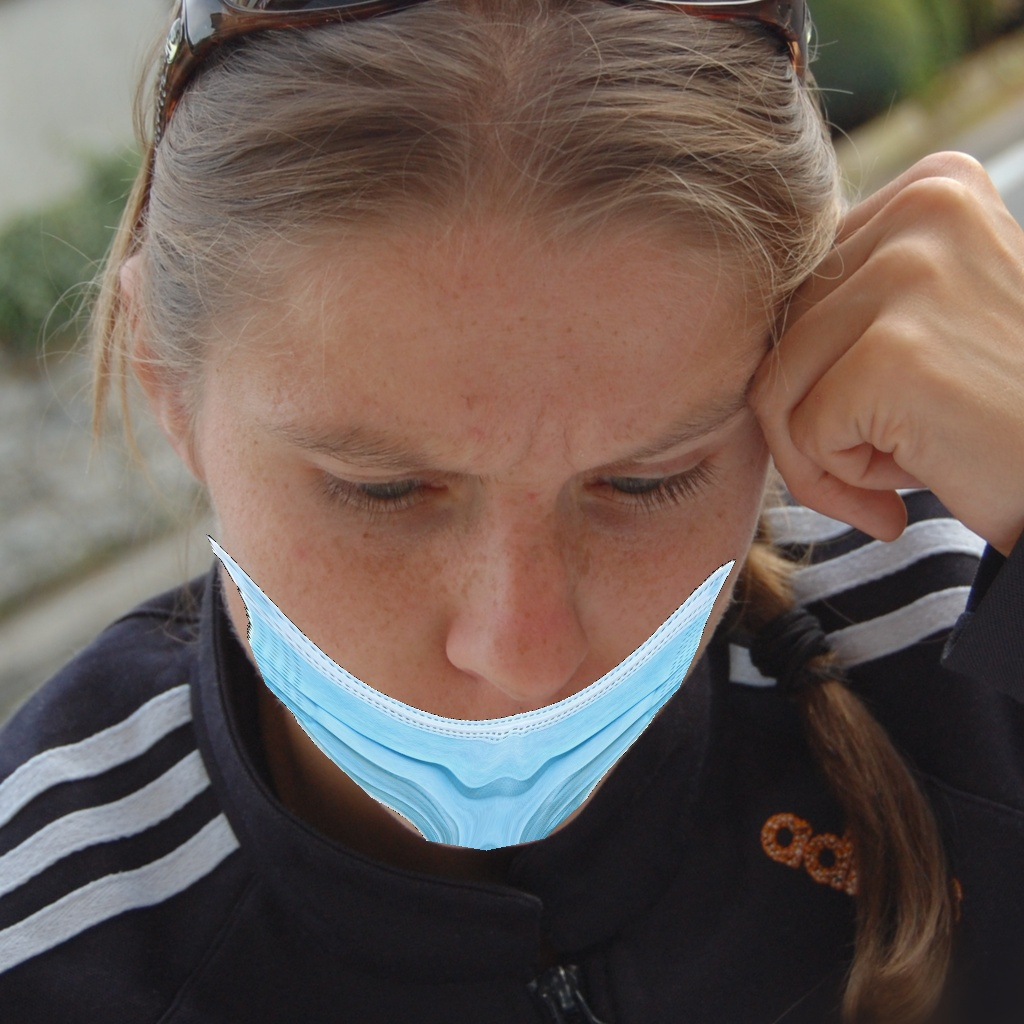mascarilla_mal_puesta: (144, 340, 787, 905)
